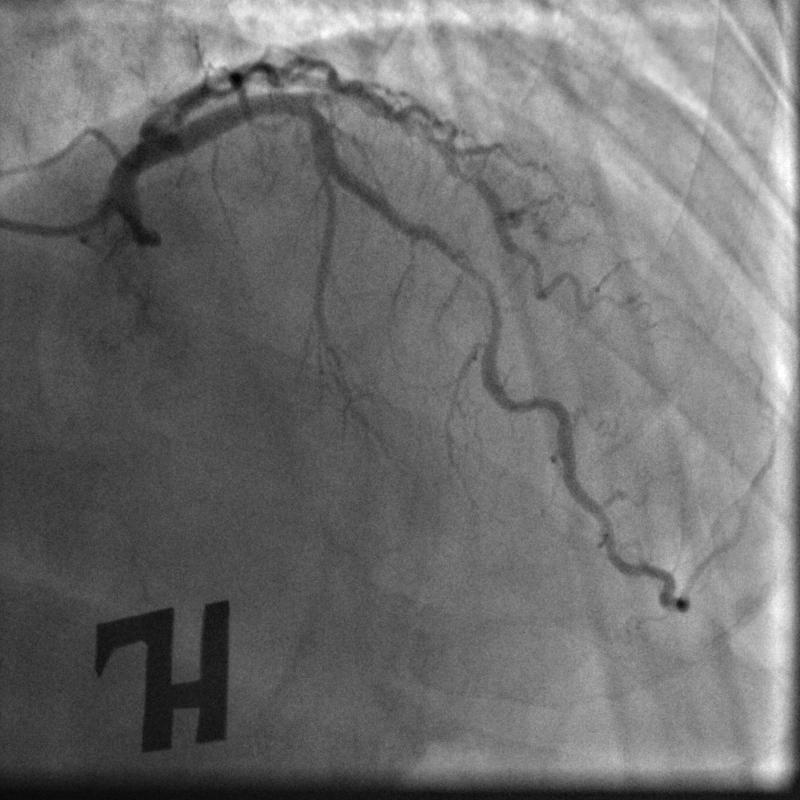Stenosis: (467, 266, 503, 336)
